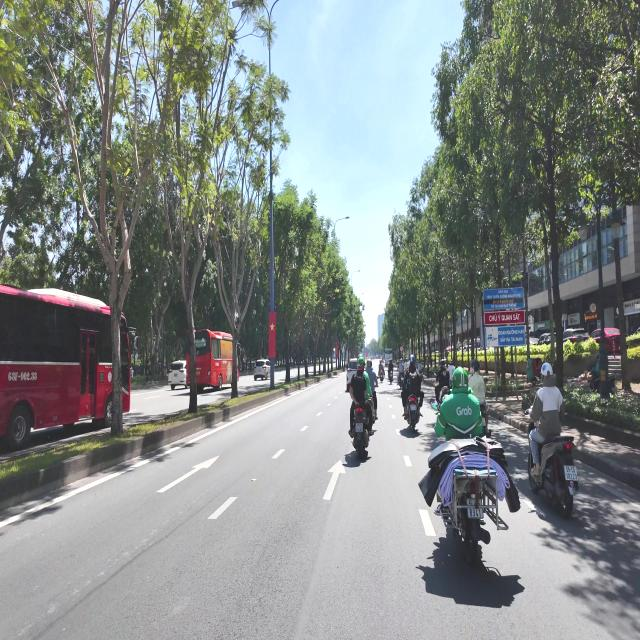car: (168, 361, 186, 390), (254, 360, 270, 380), (347, 359, 357, 391)
motorcycle: (424, 439, 520, 555), (528, 436, 578, 518), (353, 406, 369, 460), (408, 394, 420, 431), (378, 368, 384, 382)
